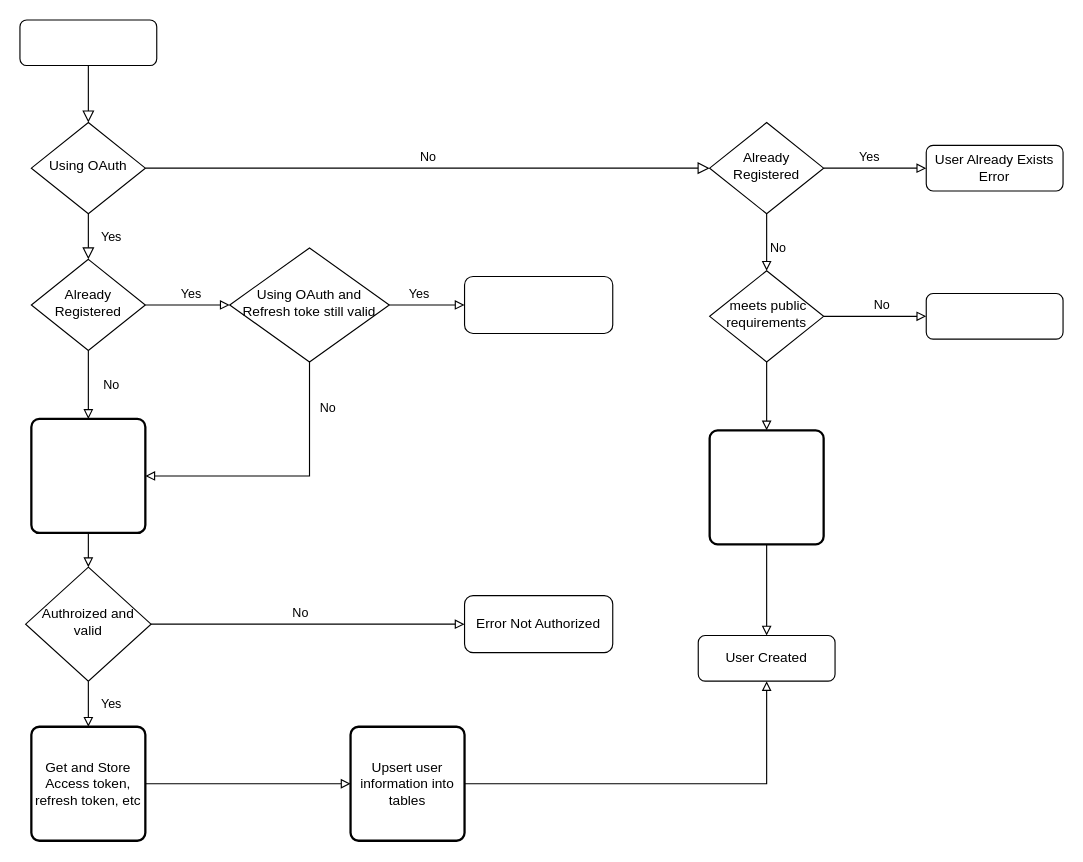
Some shapes in this 1083 by 862 pixel diagram are drawn without their labels. The shapes that lost their labels are listed below. From the top down, each one's centre as x and y in pixels, then its label:
At (x=88, y=42): "User Registers".
At (x=538, y=304): "User Already Exists".
At (x=994, y=315): "Error Requirements Not Met".
At (x=88, y=475): "Send OAuth Link".
At (x=766, y=487): "Create Basic User With Discord Id and WakaTime Id".
